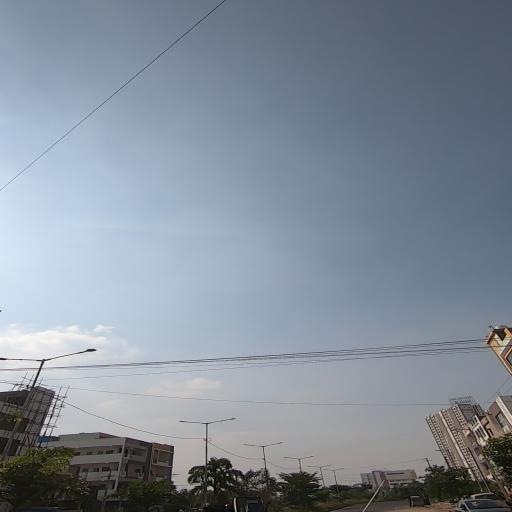Street_light: (46, 346, 102, 368), (211, 415, 242, 426), (174, 418, 208, 427), (241, 442, 260, 450), (264, 440, 280, 448), (280, 455, 300, 461), (304, 454, 317, 461)
